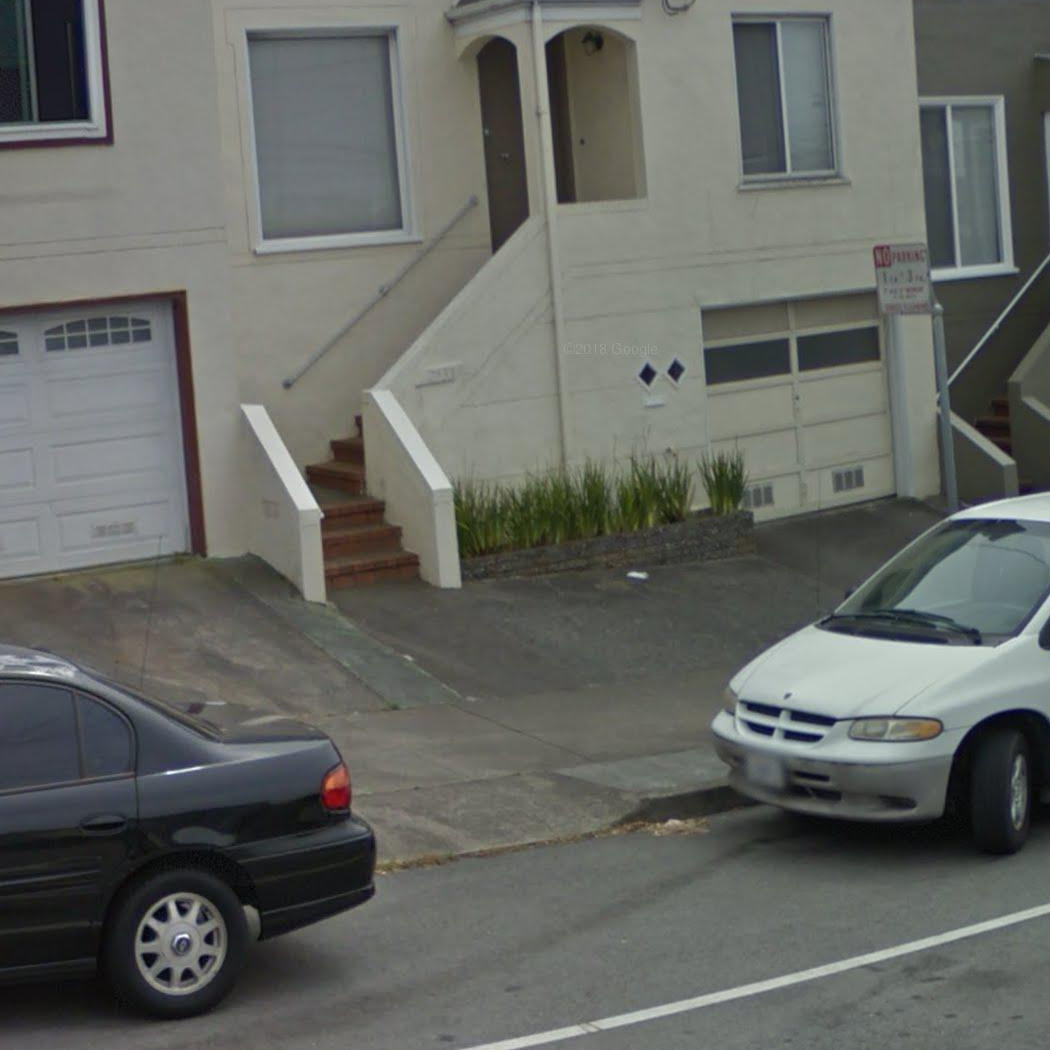No Parking: (868, 242, 934, 317)
